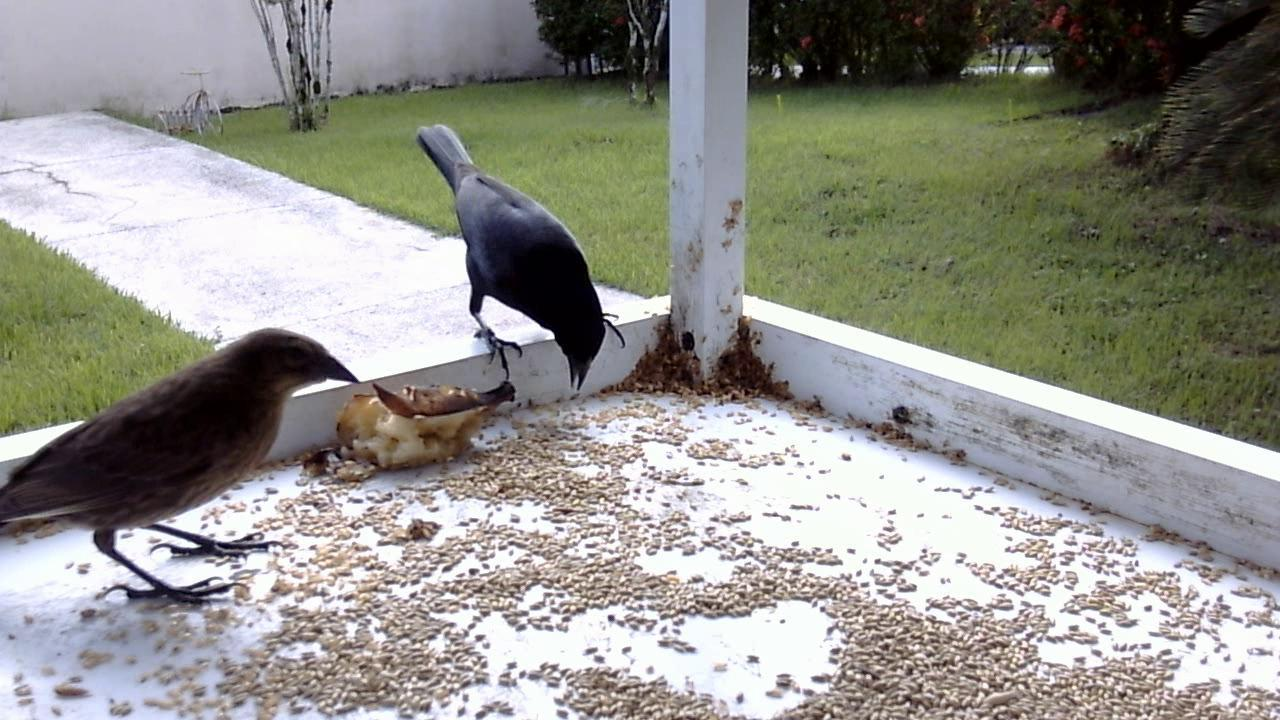chupim: (3, 316, 364, 628), (408, 118, 633, 406)
